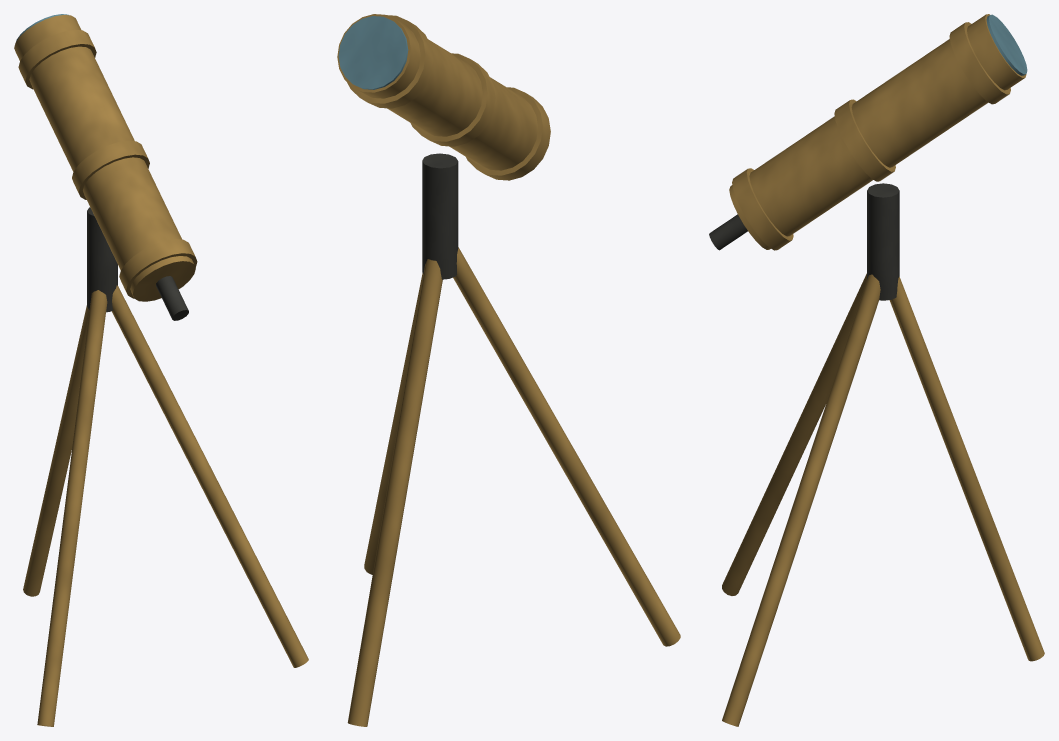
Rendered from Furn_Telescope.fbx.
3 views of the same model, side by side, from view 1: azimuth 30°, elevation 25°; view 2: azimuth 150°, elevation 25°; view 3: azimuth 270°, elevation 25° (orthographic). The views are drawn at different scales.
Visible parts, largest first — view 1: Furn_Telescope_Mesh; view 2: Furn_Telescope_Mesh; view 3: Furn_Telescope_Mesh.
Part boxes in pixels (x1,y1,x2,y2): Furn_Telescope_Mesh: (14,14,308,726); Furn_Telescope_Mesh: (337,14,680,726); Furn_Telescope_Mesh: (709,14,1044,726).
Bounding box in the file's own units: 0.9 × 1.9 × 0.9.
3 materials, 3 textured.
